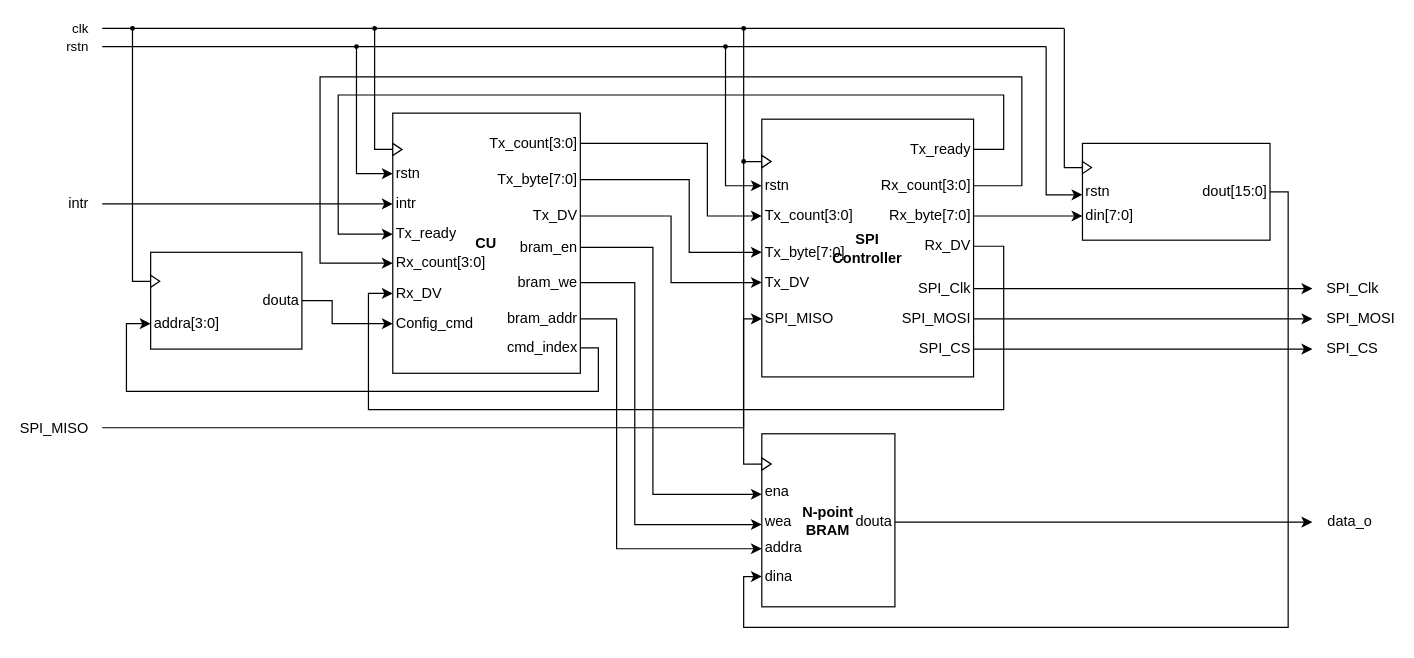
Some shapes in this 1414 by 658 pixel diagram are drawn without their labels. The box of each missing label's shape, as (x1, y1, x2, y2) in pixels:
Config Cmds: (149, 251, 302, 349)
Process HWord: (1081, 142, 1270, 240)
